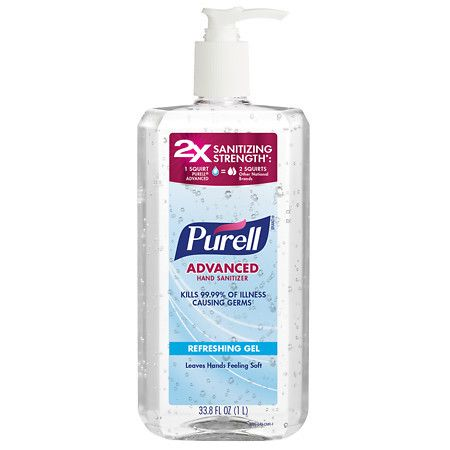Sanitizer: (134, 2, 316, 444)
